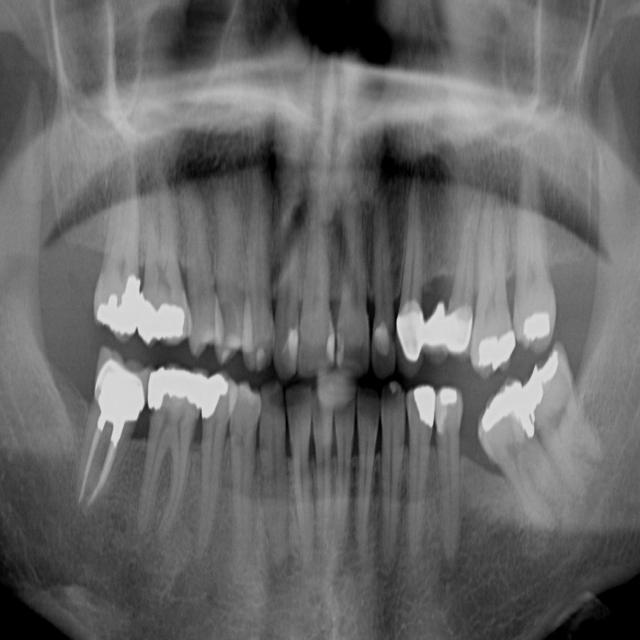dentin-curugu: (286, 383, 309, 414), (358, 386, 380, 414), (262, 385, 282, 409)
dolgu: (474, 375, 541, 448), (518, 339, 568, 430), (96, 270, 141, 334), (139, 289, 184, 343), (472, 322, 518, 371), (204, 370, 234, 426), (518, 302, 552, 340), (411, 388, 438, 430), (280, 324, 299, 363), (369, 317, 389, 353), (438, 388, 456, 419), (322, 324, 336, 363), (388, 380, 402, 398)
kanal-tedavisi: (78, 413, 124, 516)
kaplama: (148, 362, 206, 418), (92, 359, 144, 421), (393, 302, 427, 360), (445, 302, 473, 355)
kopru: (421, 295, 449, 360)
